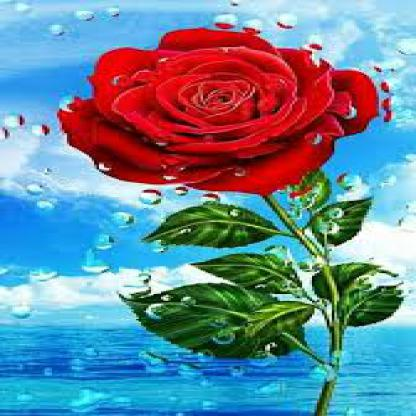Rose-Mawar: (33, 17, 400, 200)
